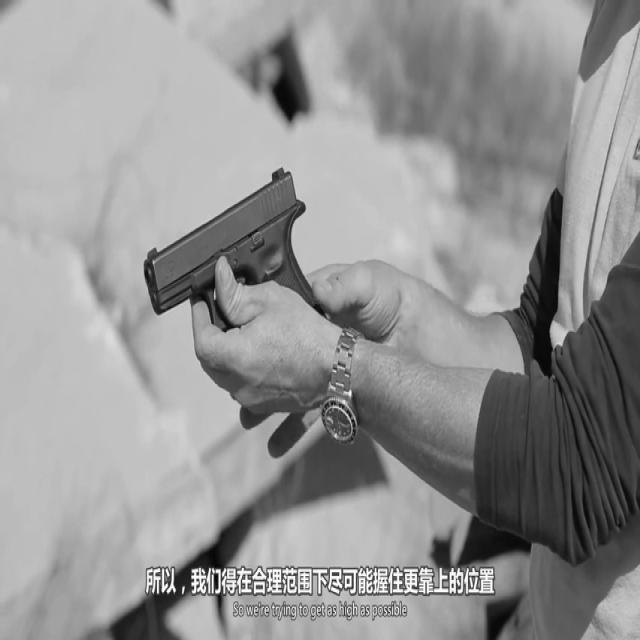Hand-Gun: (114, 80, 372, 450)
